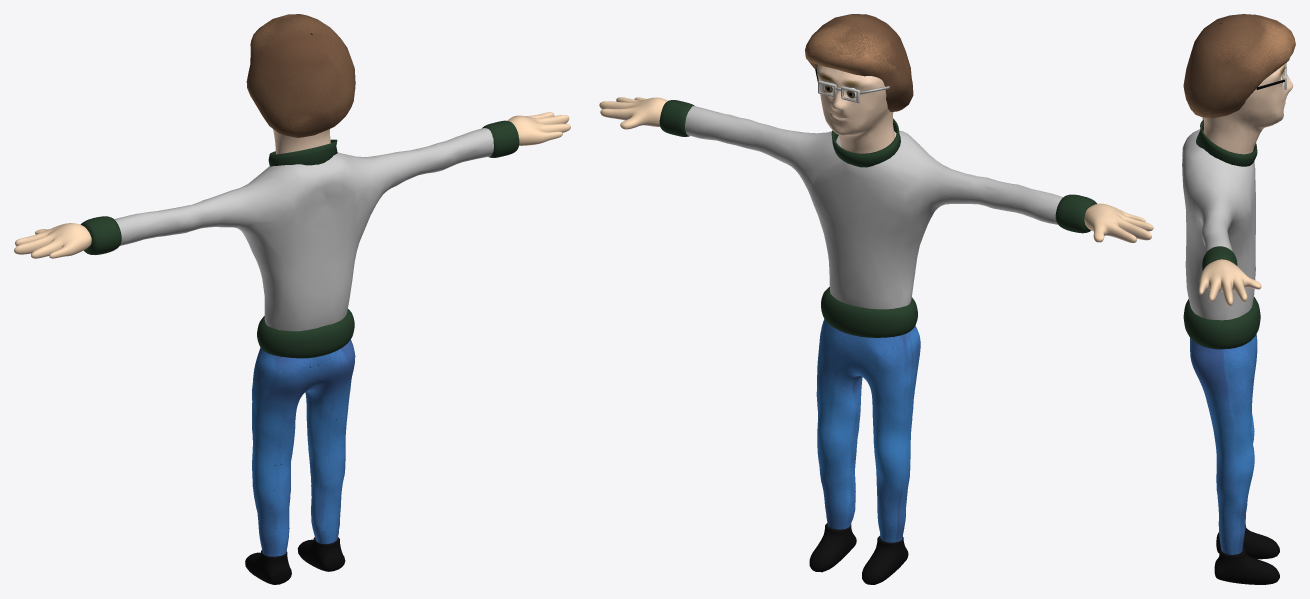
The model's file is MaxModellRig.fbx.
The picture shows the model from 3 angles, left to right: view 1: azimuth 30°, elevation 25°; view 2: azimuth 150°, elevation 25°; view 3: azimuth 270°, elevation 25°; orthographic projection.
Visible parts, largest first — view 1: Icosphere.004; view 2: Icosphere.004; view 3: Icosphere.004.
Boxes of the visible parts, x1,y1,x2,y2 form: Icosphere.004: (14,14,570,584); Icosphere.004: (599,14,1153,584); Icosphere.004: (1182,14,1295,584).
Size of the model in its own units: 1415 by 1348 by 250.
